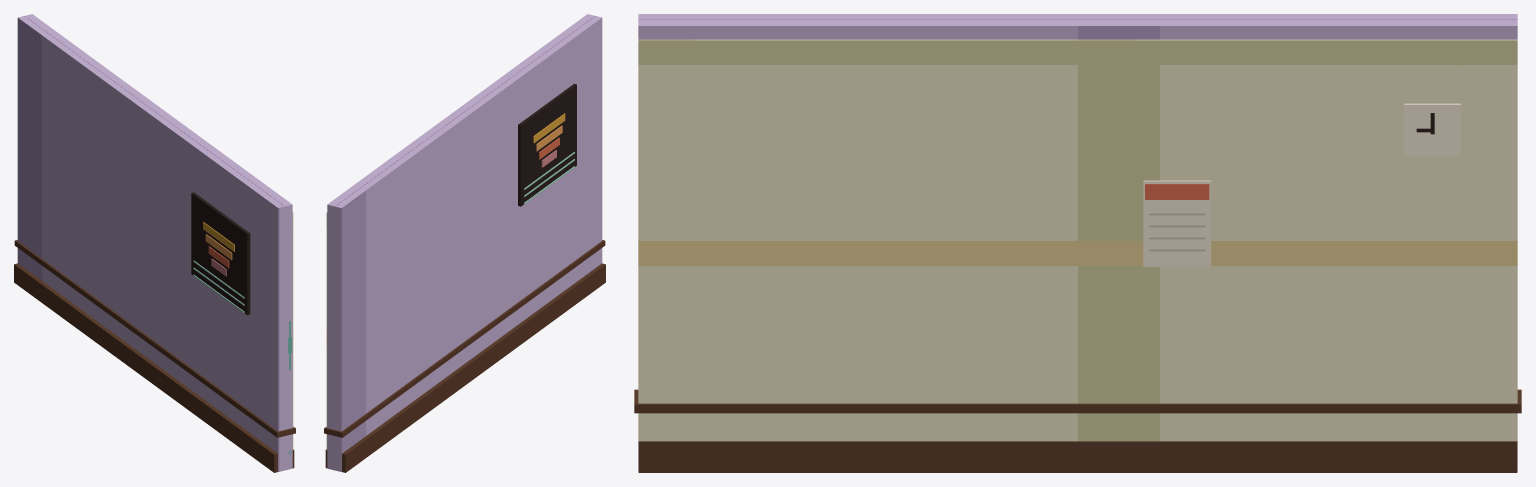
File: bed_east.glb
3 views of the same model, side by side, from view 1: azimuth 30°, elevation 25°; view 2: azimuth 150°, elevation 25°; view 3: azimuth 270°, elevation 25° (orthographic). The views are drawn at different scales.
Visible parts, largest first — view 1: Box1, Box2, Box3, Box23, Box22, Box12; view 2: Box1, Box2, Box3, Box23, Box22, Box12; view 3: Box12, Box11, Box1, Box23, Box13, Box19, Box14.
Part boxes in pixels (box(x1,y1,x2,y2)): Box1: box(17, 14, 292, 471); Box2: box(14, 263, 277, 472); Box3: box(191, 192, 250, 315); Box23: box(14, 240, 295, 437); Box22: box(19, 254, 292, 471); Box12: box(292, 212, 293, 449); Box1: box(327, 14, 602, 471); Box2: box(342, 263, 605, 472); Box3: box(518, 83, 576, 206); Box23: box(324, 240, 605, 437); Box22: box(327, 258, 601, 471); Box12: box(326, 212, 327, 449); Box12: box(638, 39, 1517, 441); Box11: box(638, 441, 1517, 472); Box1: box(638, 14, 1517, 471); Box23: box(634, 389, 1521, 413); Box13: box(1143, 180, 1211, 266); Box19: box(1404, 103, 1460, 155); Box14: box(1145, 184, 1209, 199).
Size of the model in its own units: 0.214 by 2.6 by 4.69.
11 materials, 2 textured.
